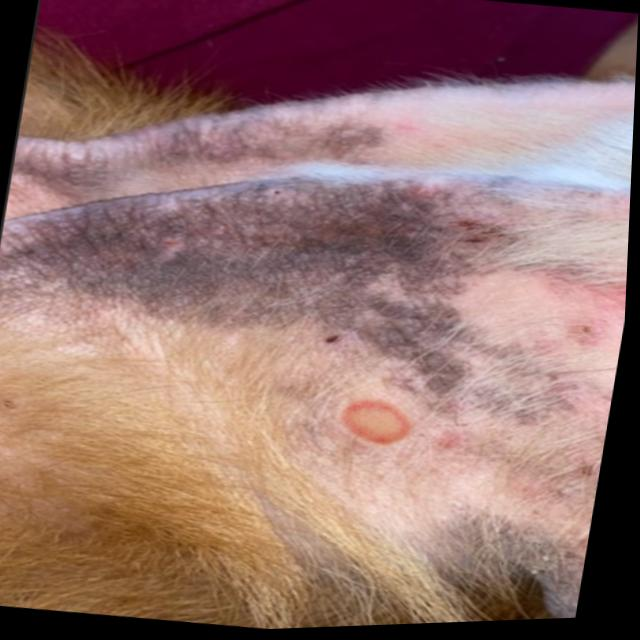ringworm: (327, 381, 447, 457)
